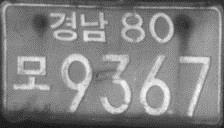0: (147, 11, 175, 45)
3: (97, 51, 134, 115)
6: (137, 52, 171, 117)
7: (177, 53, 212, 117)
8: (120, 10, 146, 45)
9: (60, 52, 93, 114)
경남_O: (48, 9, 109, 42)
모: (10, 53, 51, 91)
